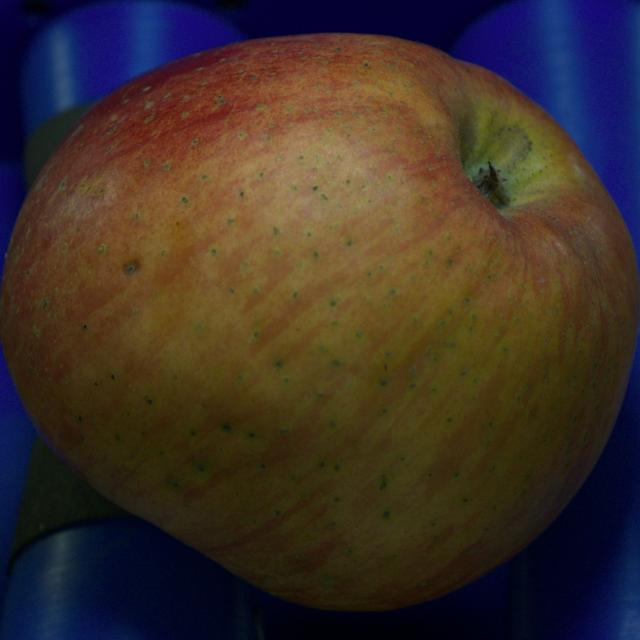apple: (0, 34, 639, 609)
pest: (123, 259, 139, 275)
